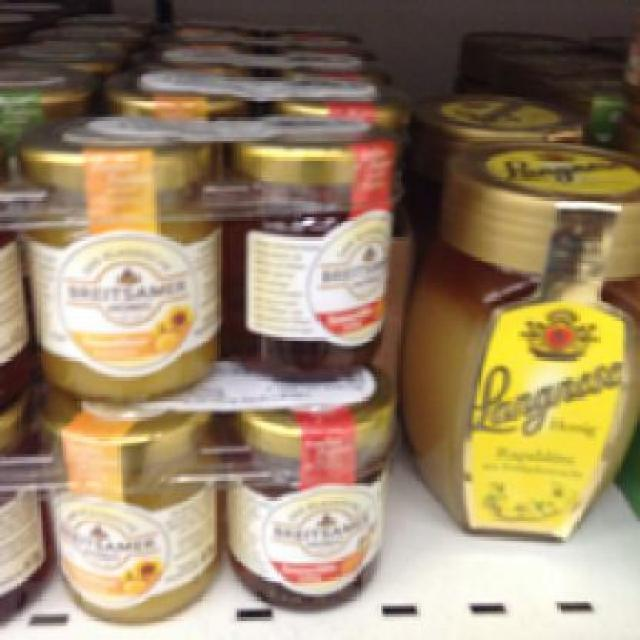Honey: (405, 137, 638, 543), (13, 105, 226, 398), (226, 377, 403, 620), (31, 400, 220, 626), (234, 122, 403, 368)
